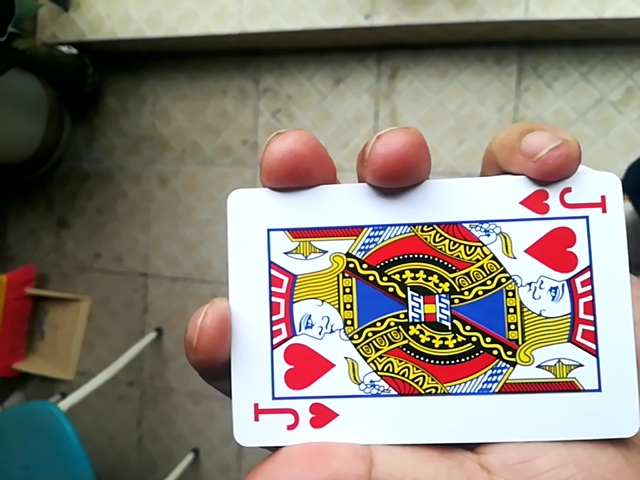hx j: (232, 172, 637, 448)
